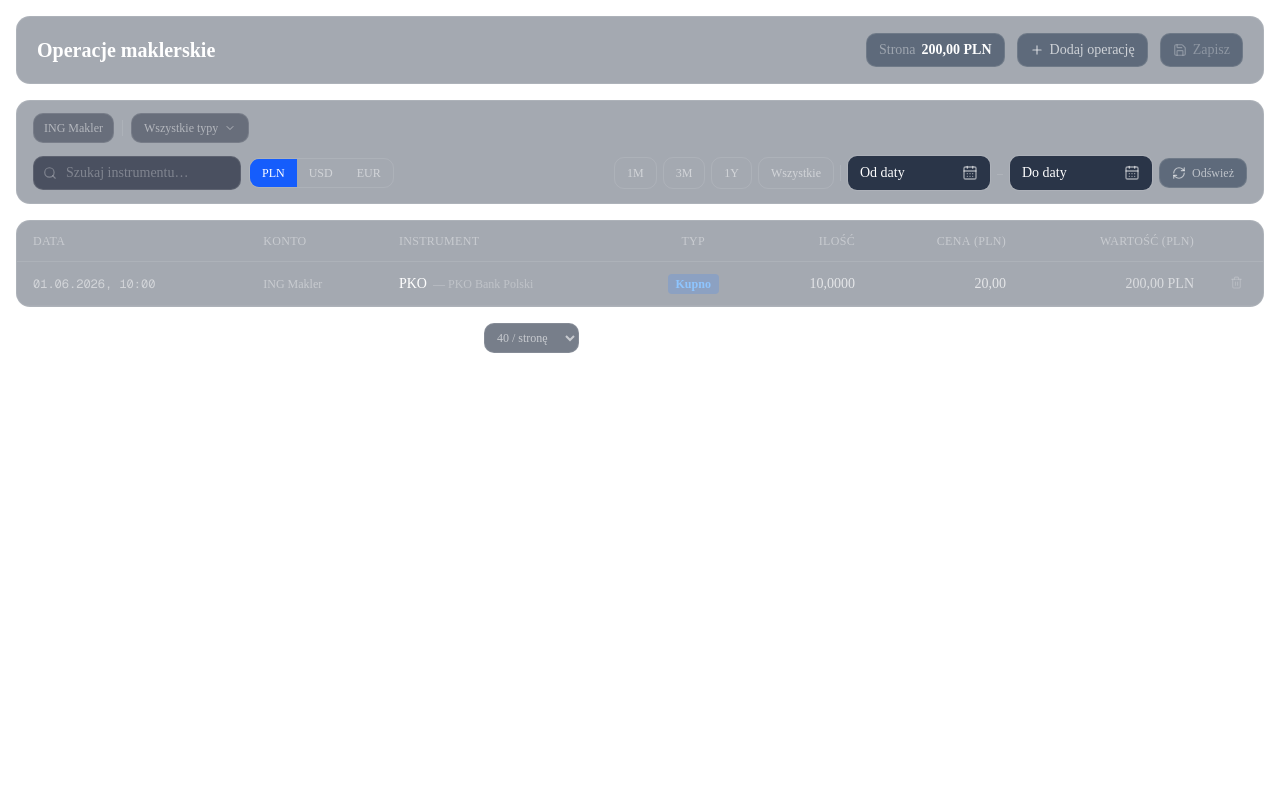
Test: BrokerageEventsPage › edits event quantity inline and sends a batch patch before reloading rows
The image size is (1280, 800).
Click the text "10,0000" at (832, 283), box [810, 276, 855, 290]
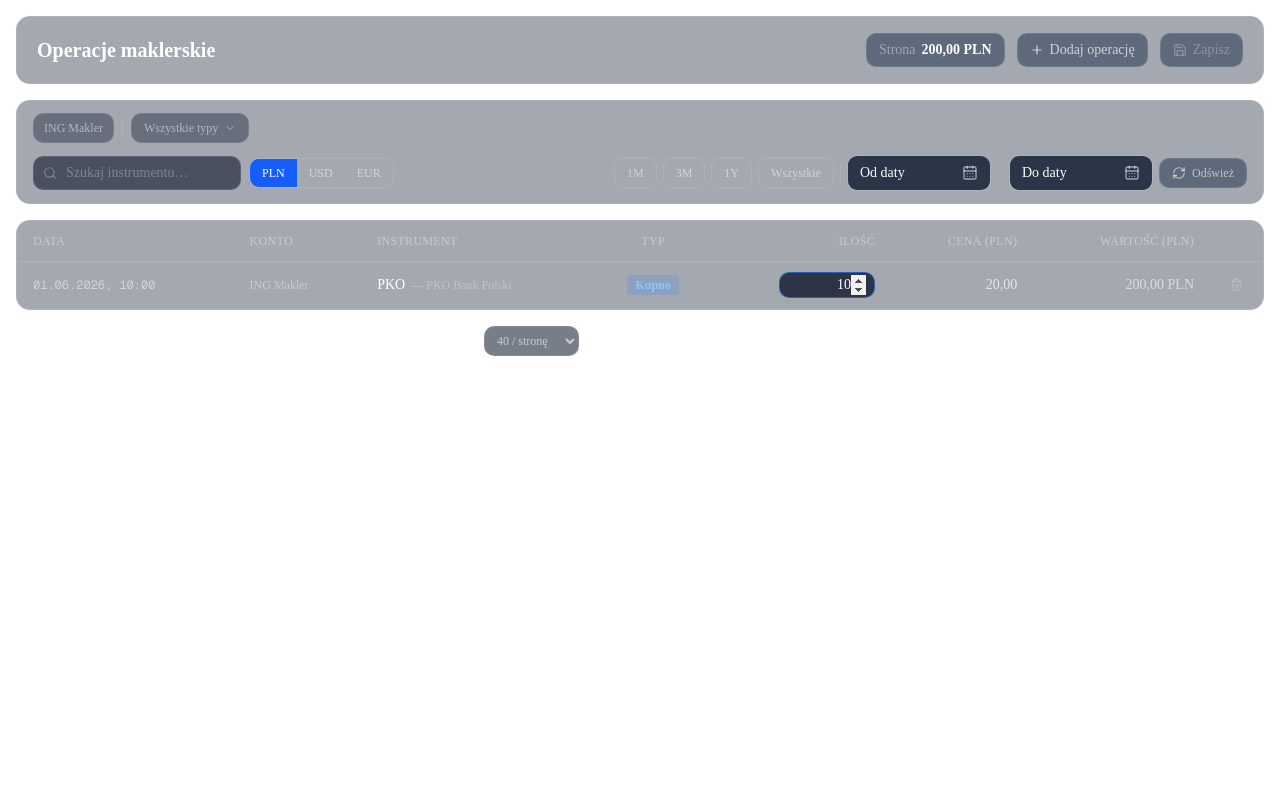
Replace the text in the number field showing "10" with "12" at (827, 285), box [779, 272, 875, 298]
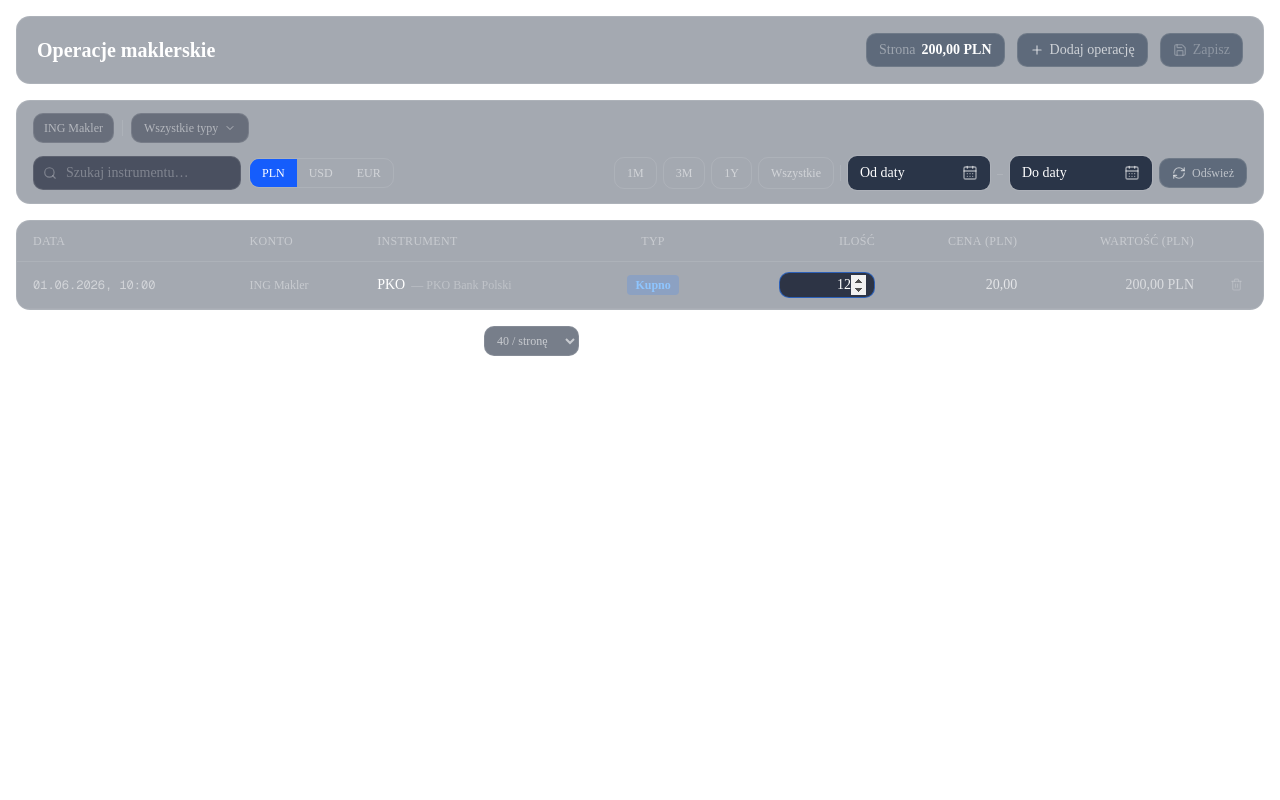
Press Enter in the number field showing "12", box [779, 272, 875, 298]
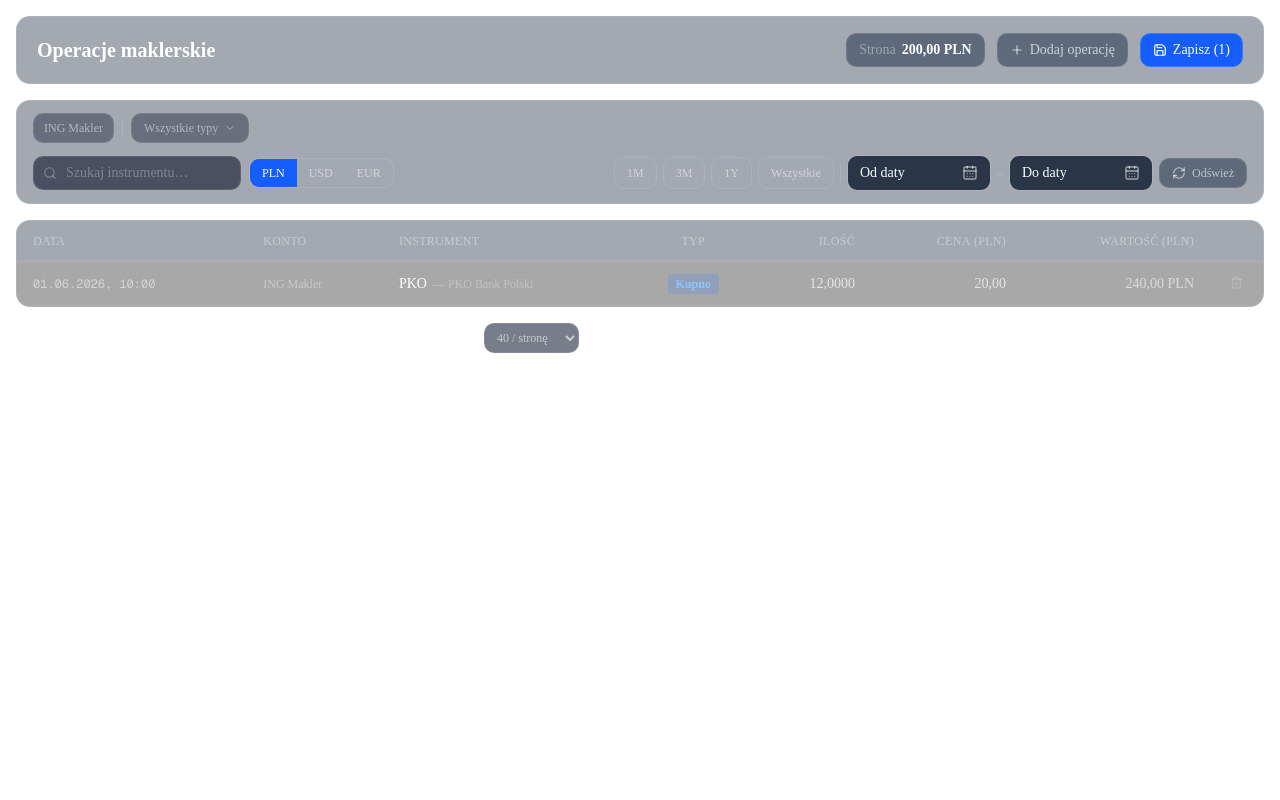
Click the button "Zapisz (1)" at (1191, 50), box [1140, 33, 1243, 67]
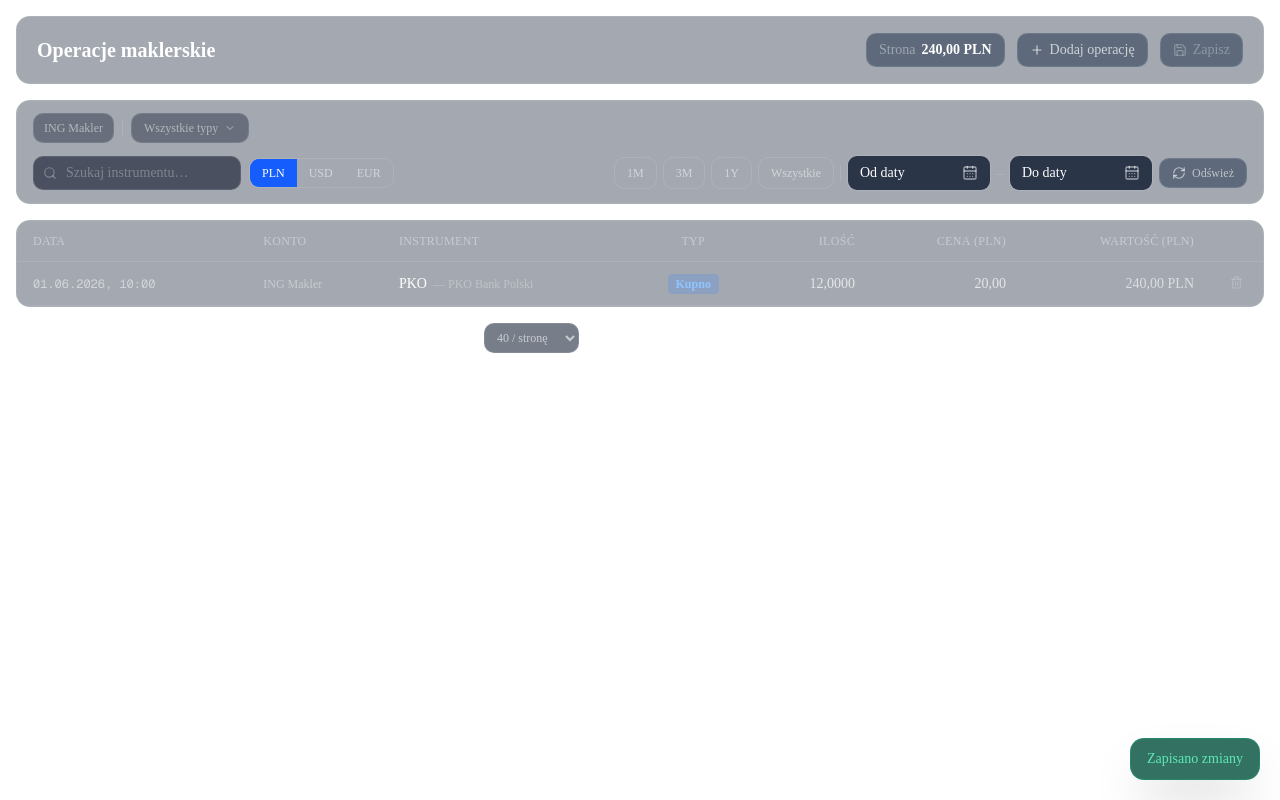
Result: the text "Zapisano zmiany" is shown at [1130, 738, 1260, 780]
